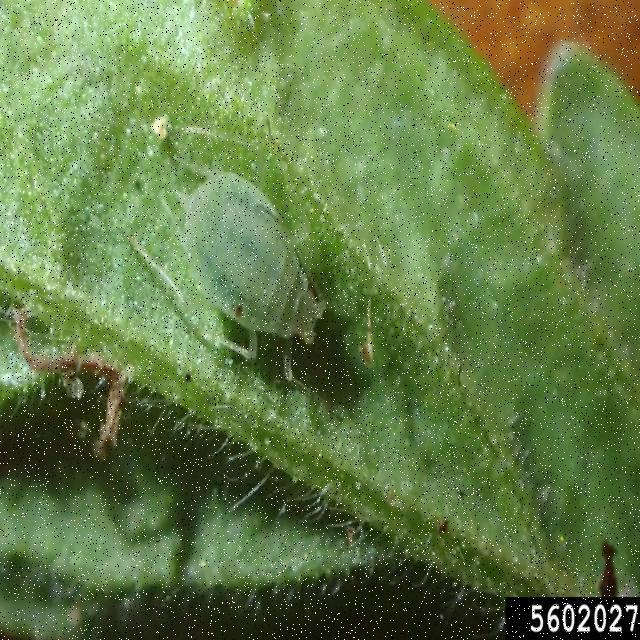Aphids: (140, 123, 361, 375)
